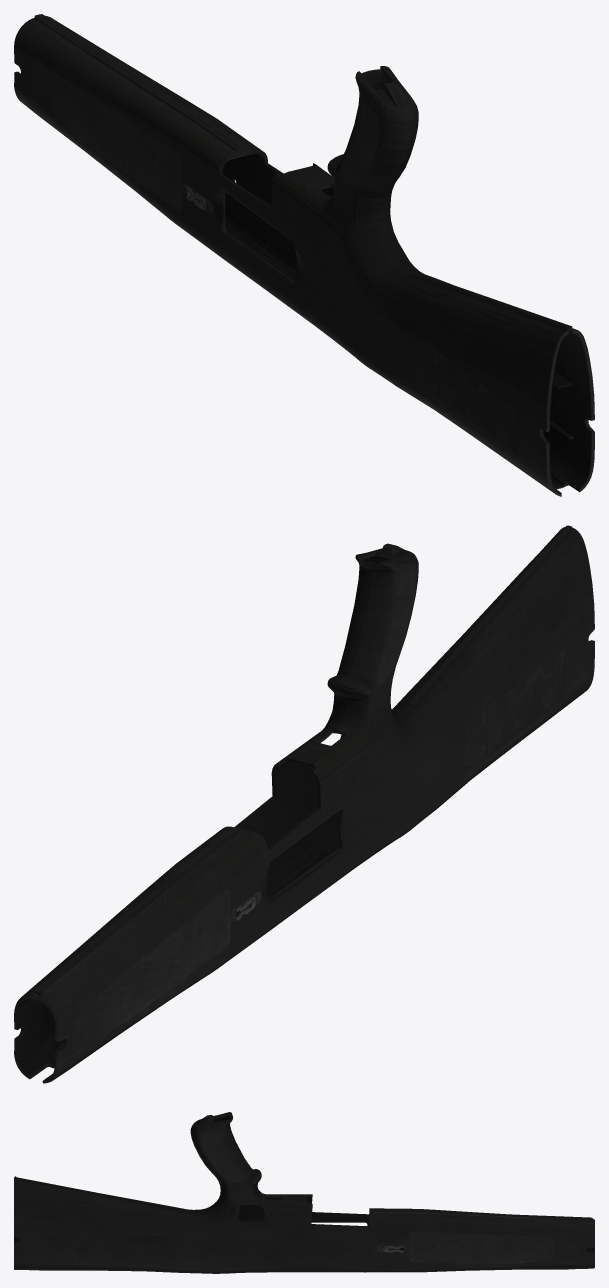
3 renders of one model, top to bottom at view 1: azimuth 30°, elevation 25°; view 2: azimuth 150°, elevation 25°; view 3: azimuth 270°, elevation 25°, orthographic. The views are drawn at different scales.
Visible parts, largest first — view 1: TW_66ffac9e316b08f6840a73e6_PZ_Import; view 2: TW_66ffac9e316b08f6840a73e6_PZ_Import; view 3: TW_66ffac9e316b08f6840a73e6_PZ_Import.
Boxes of the visible parts, x1,y1,x2,y2 form: TW_66ffac9e316b08f6840a73e6_PZ_Import: [14, 14, 594, 496]; TW_66ffac9e316b08f6840a73e6_PZ_Import: [14, 525, 594, 1083]; TW_66ffac9e316b08f6840a73e6_PZ_Import: [14, 1112, 594, 1273].
Bounding box in the file's own units: 0.025 × 0.4389 × 0.1306.
1 material, 1 textured.
